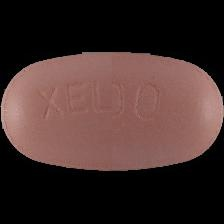0004-1101: (0, 0, 224, 224)
